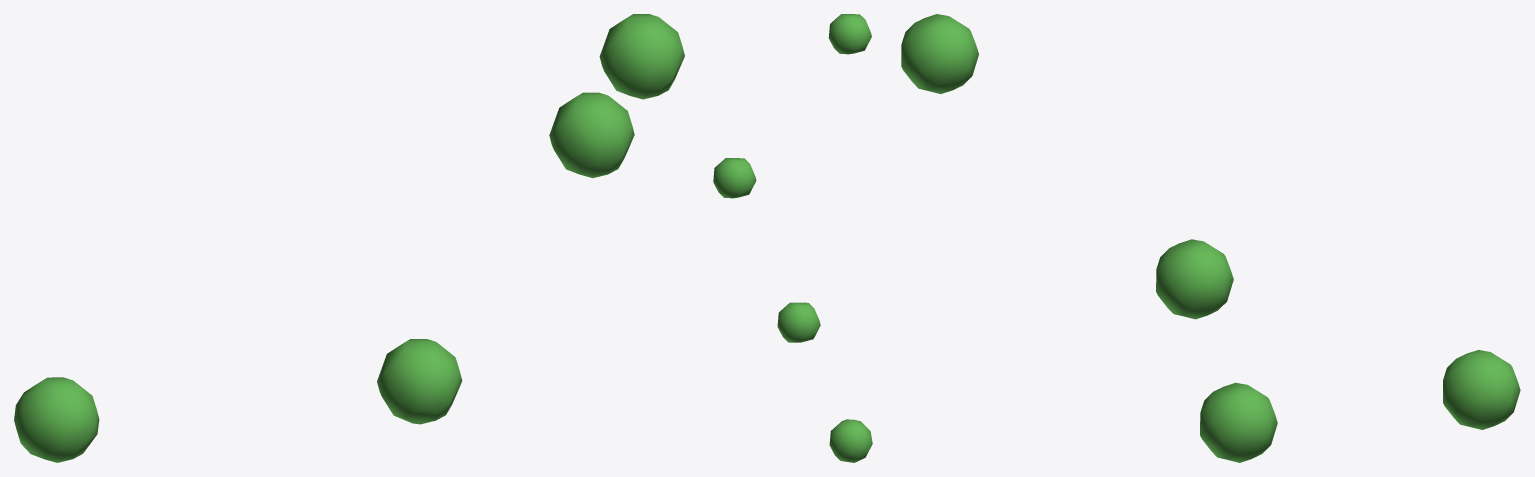
The model's file is linfatico-superior-gluteal-nodes-r.glb.
3 renders of one model, left to right at view 1: azimuth 30°, elevation 25°; view 2: azimuth 150°, elevation 25°; view 3: azimuth 270°, elevation 25°, orthographic. The views are drawn at different scales.
Parts seen in each view (by area): view 1: Superior gluteal nodes.r; view 2: Superior gluteal nodes.r; view 3: Superior gluteal nodes.r.
Part boxes in pixels (left/top/right/bottom): Superior gluteal nodes.r: left=14, top=14, right=684, bottom=462; Superior gluteal nodes.r: left=713, top=14, right=872, bottom=462; Superior gluteal nodes.r: left=901, top=14, right=1520, bottom=462.
Size of the model in its own units: 0.0157 by 0.0192 by 0.02.
